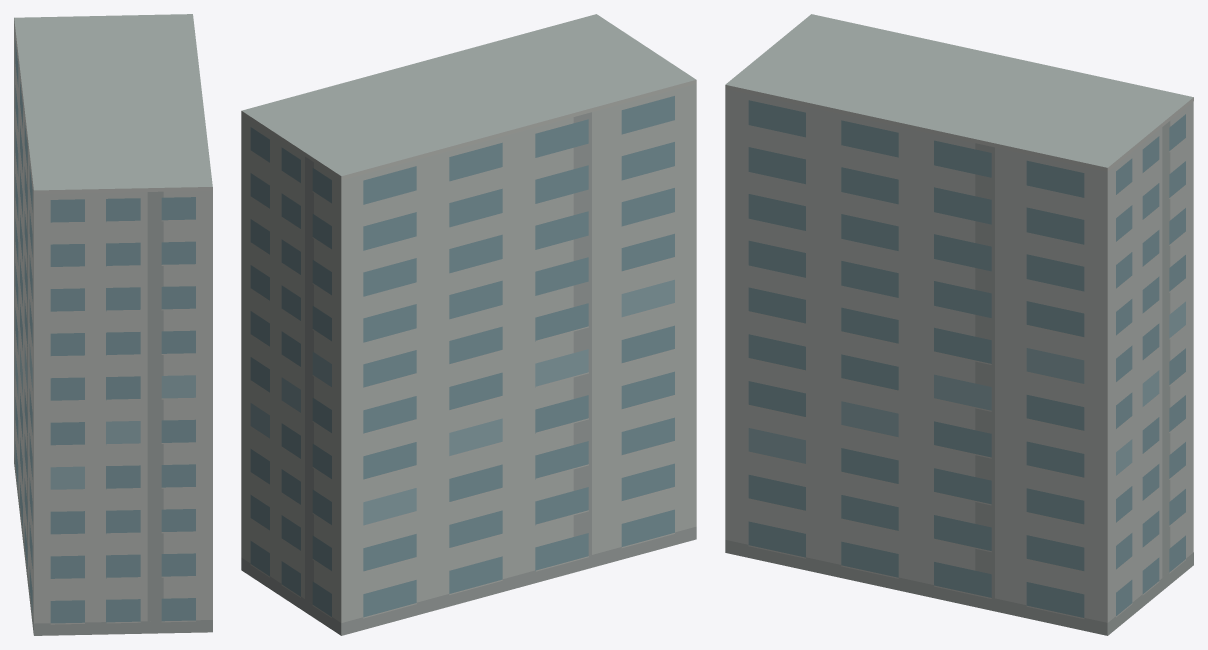
The model's file is residential-61e9e536-8604-4369-bef7-debe33706f73.glb.
3 renders of one model, left to right at view 1: azimuth 30°, elevation 25°; view 2: azimuth 150°, elevation 25°; view 3: azimuth 270°, elevation 25°, orthographic. The views are drawn at different scales.
Parts seen in each view (by area): view 1: residential-61e9e536-8604-4369-bef7-debe33706f73.tmp; view 2: residential-61e9e536-8604-4369-bef7-debe33706f73.tmp; view 3: residential-61e9e536-8604-4369-bef7-debe33706f73.tmp.
Boxes of the visible parts, <box> form: residential-61e9e536-8604-4369-bef7-debe33706f73.tmp: <box>14,14,212,635</box>; residential-61e9e536-8604-4369-bef7-debe33706f73.tmp: <box>241,14,696,635</box>; residential-61e9e536-8604-4369-bef7-debe33706f73.tmp: <box>725,14,1193,635</box>.
Bounding box in the file's own units: 19.75 × 28 × 25.41.
